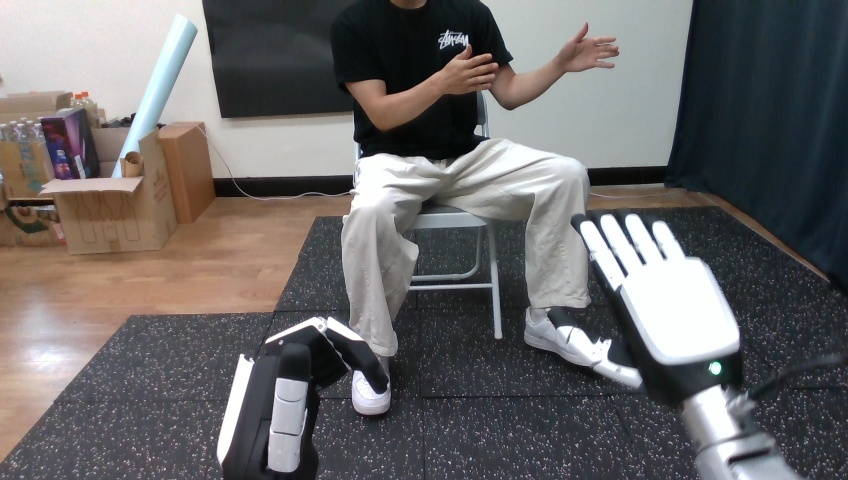left robot hand: (572, 212, 796, 479), (217, 317, 388, 479), (430, 45, 498, 94), (555, 23, 618, 72)
